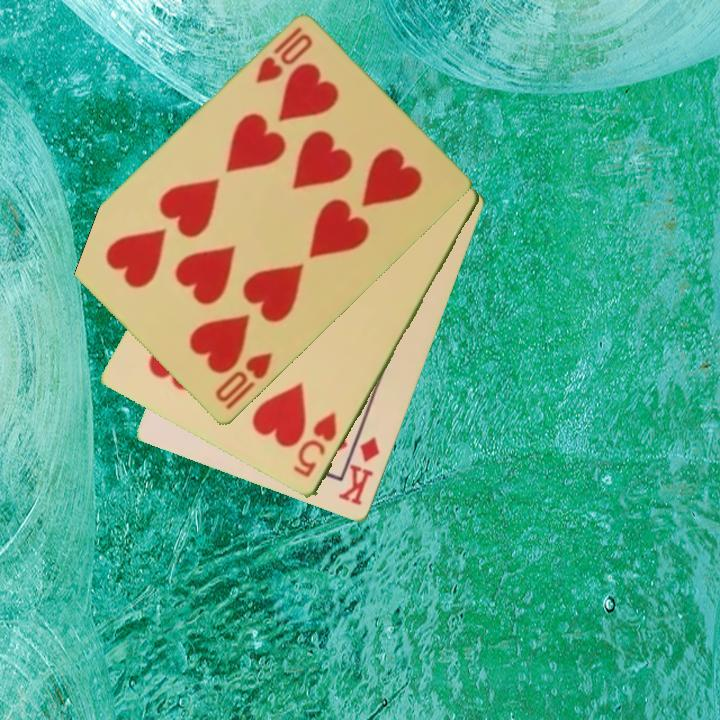10h: (211, 349, 276, 413), (251, 24, 316, 88)
5h: (290, 410, 340, 481)
Kd: (334, 434, 383, 509)
